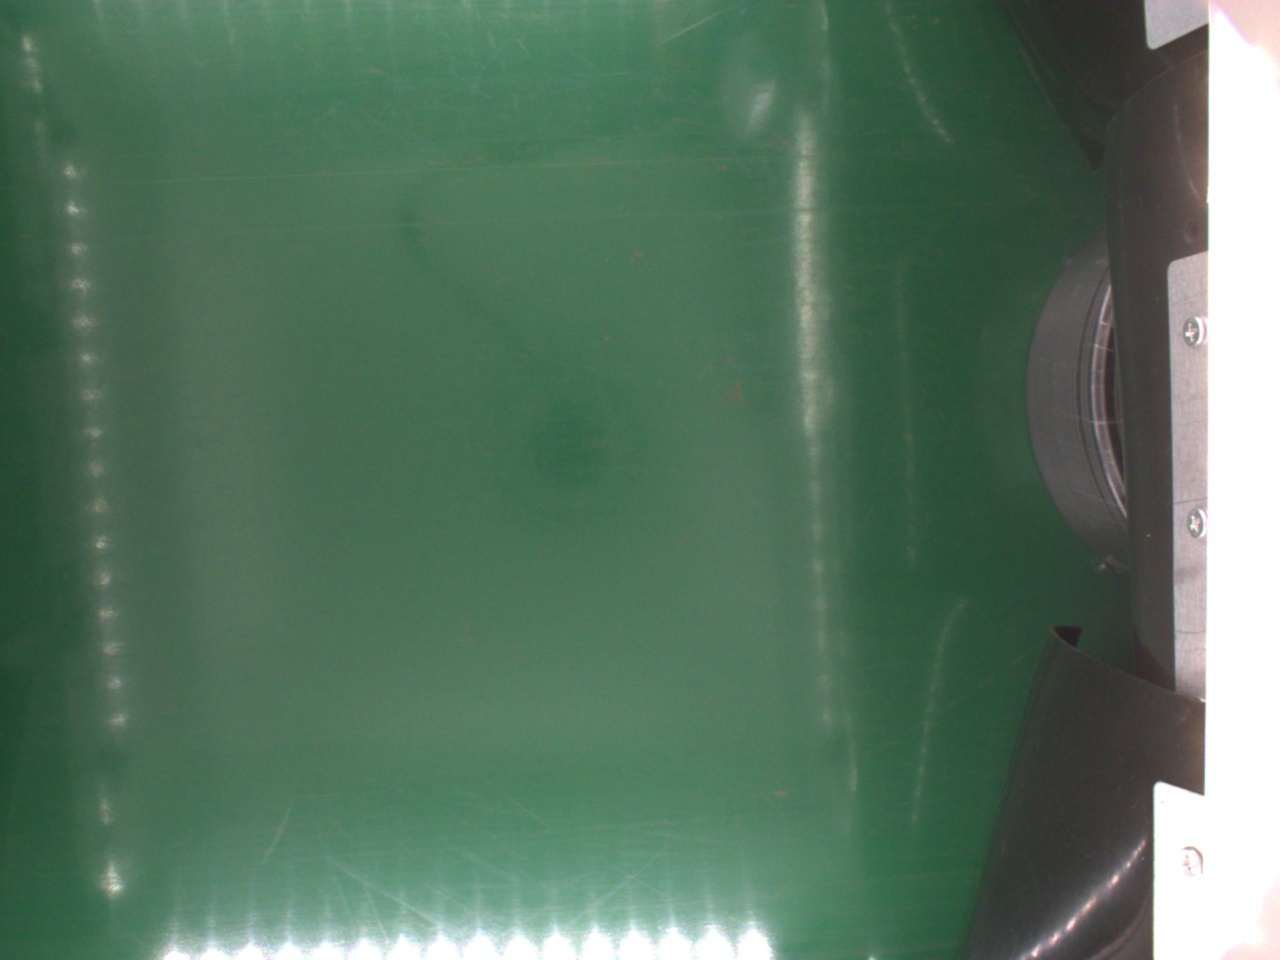black: (1027, 230, 1143, 560)
